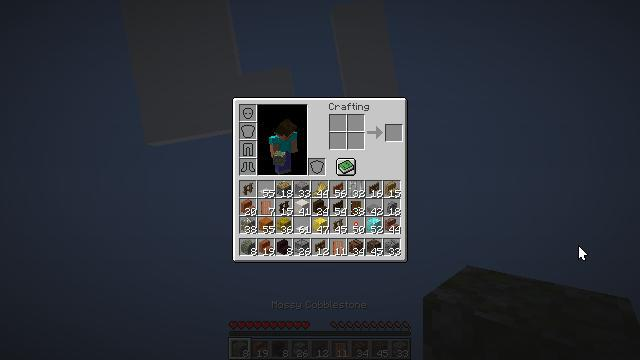cursor: (578, 245, 588, 261)
